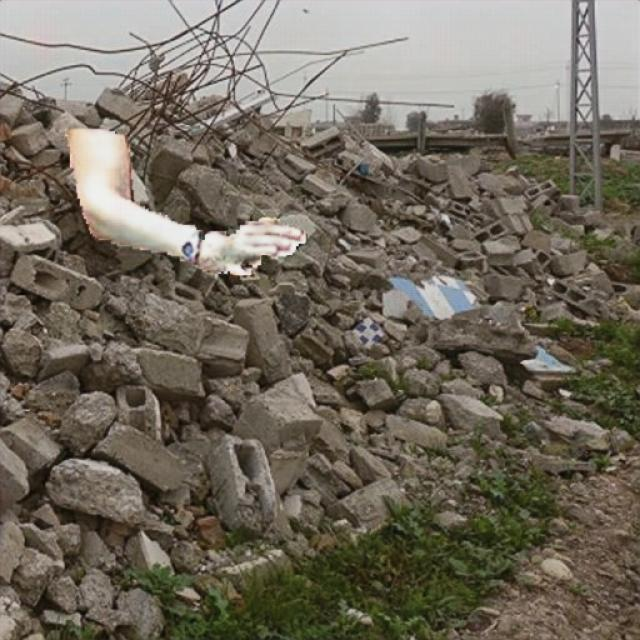Person in Rubble: (65, 128, 306, 274)
